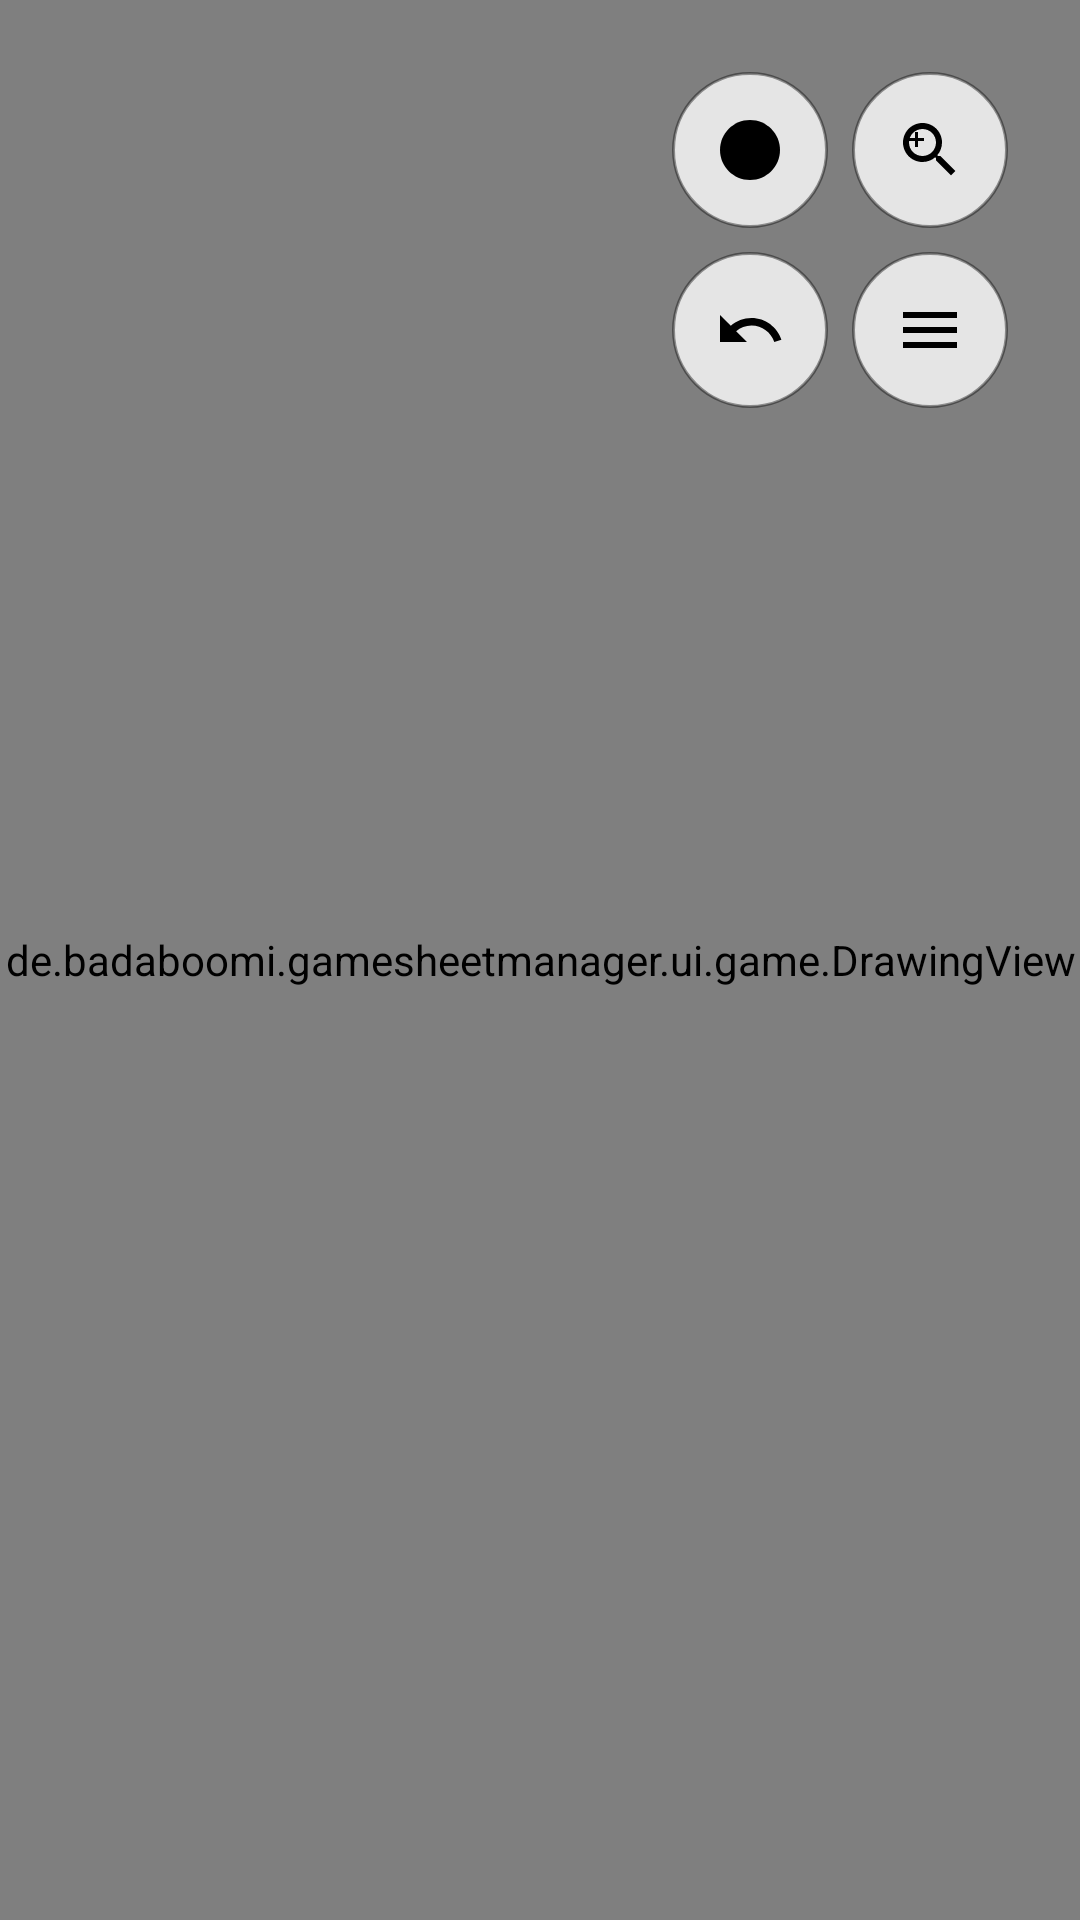

Screen size 1080w x 1920h. Icon name, then its center in pixels as [x,y]:
Rückgängig: [750,330]
Spielmenü: [930,330]
Stiftgröße und Farbe ändern: [750,150]
Zoom-Modus: [930,150]
